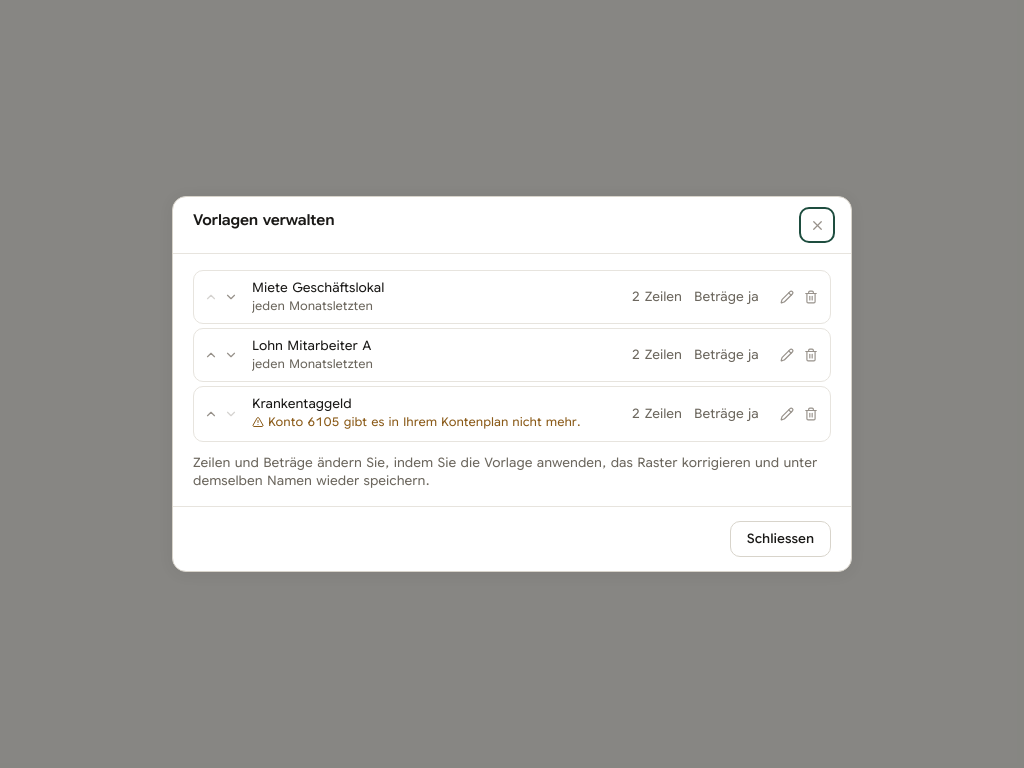
Test case: ManageTemplatesDialog › manageTemplatesRefetchesAfterAConflictTest
This screenshot has width=1024, height=768.
Click the button named "Lohn Mitarbeiter A nach oben".
click(211, 355)  # box [202, 346, 220, 364]
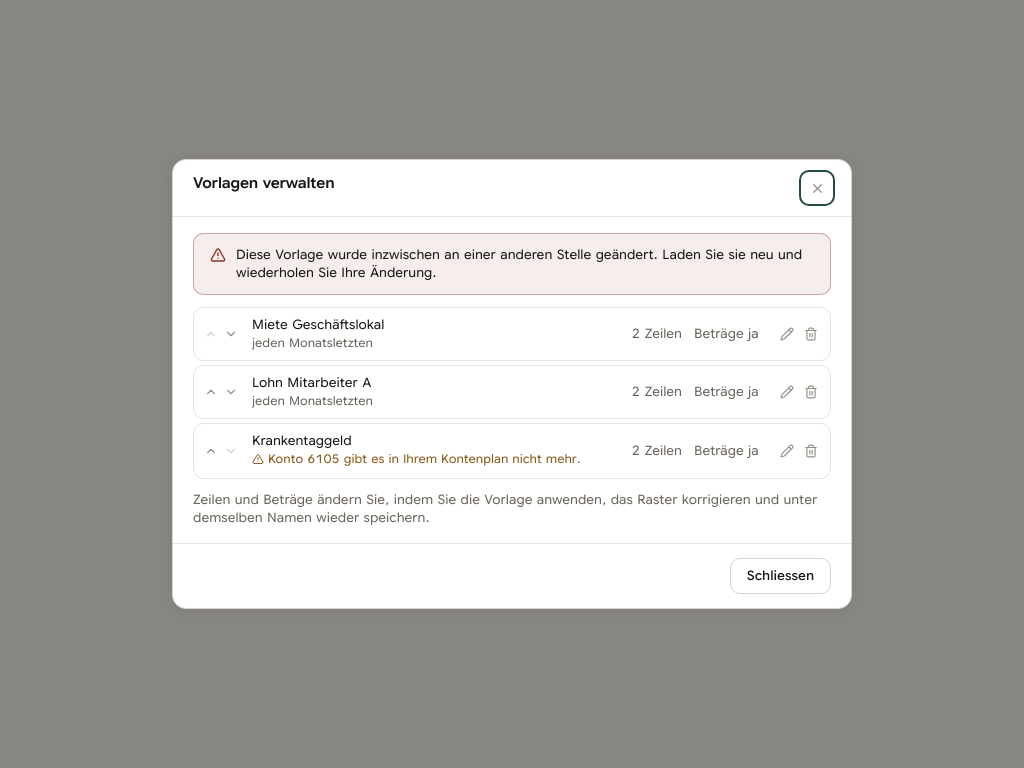
Check: the text "Diese Vorlage wurde inzwischen an einer anderen" is shown, box [236, 246, 802, 281]
